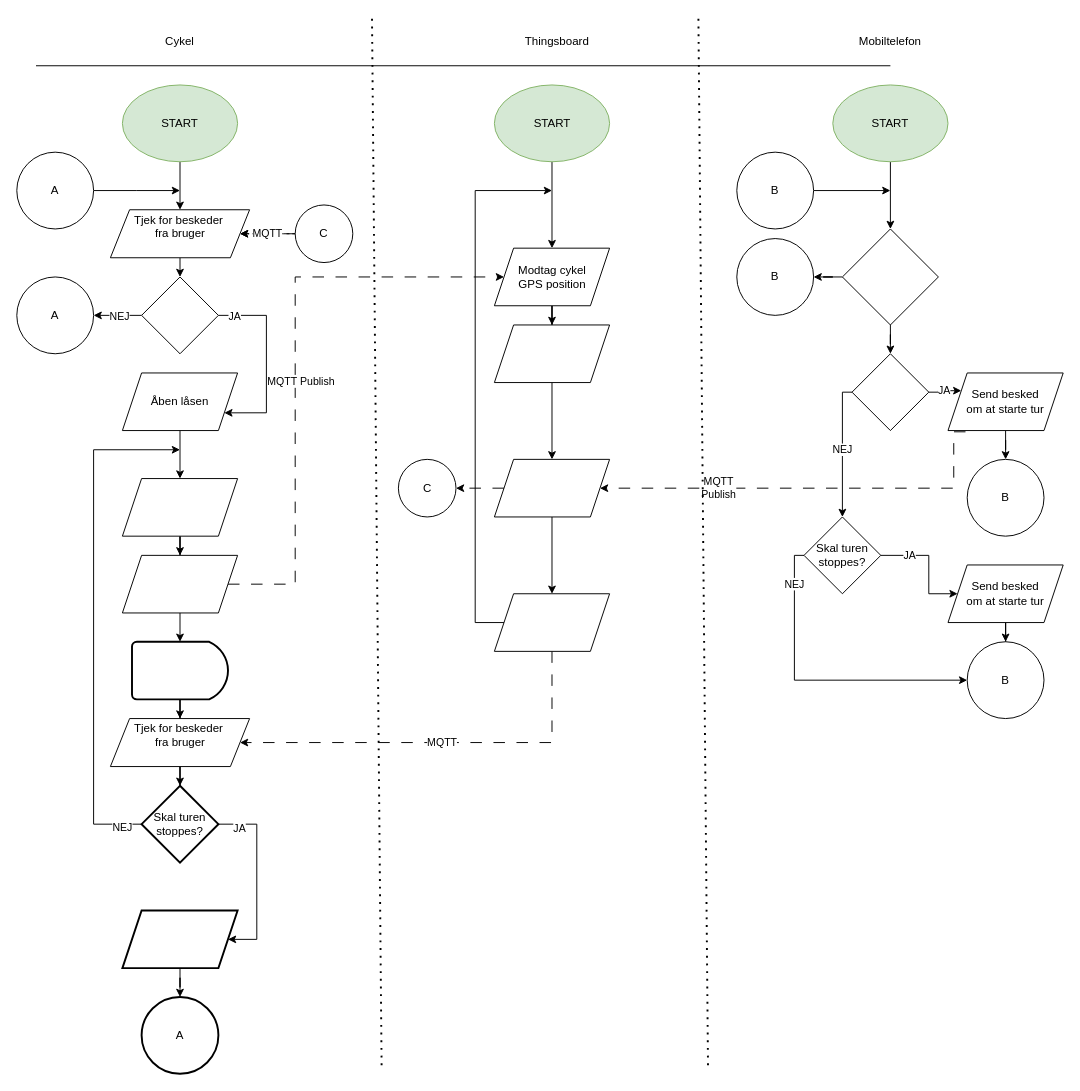
Some shapes in this 1080 by 1091 pixel diagram are drawn without their labels. Here are the shapes that lost their labels. From the top down, the centre of each, then its label:
At point 889,276: "Er der input fra bruger?".
At point 179,315: "Skal der startes en tur?".
At point 551,353: "Vis position på kort".
At point 890,392: "Skal turen startes?".
At point 179,507: "Aflæs GPS position".
At point 551,487: "Modtag start tur besked".
At point 179,583: "Send GPS position til ThingsBoard".
At point 551,622: "Modtag stop tur besked".
At point 179,670: "Vent 5 sekunder".
At point 179,939: "Lås cyklen".
